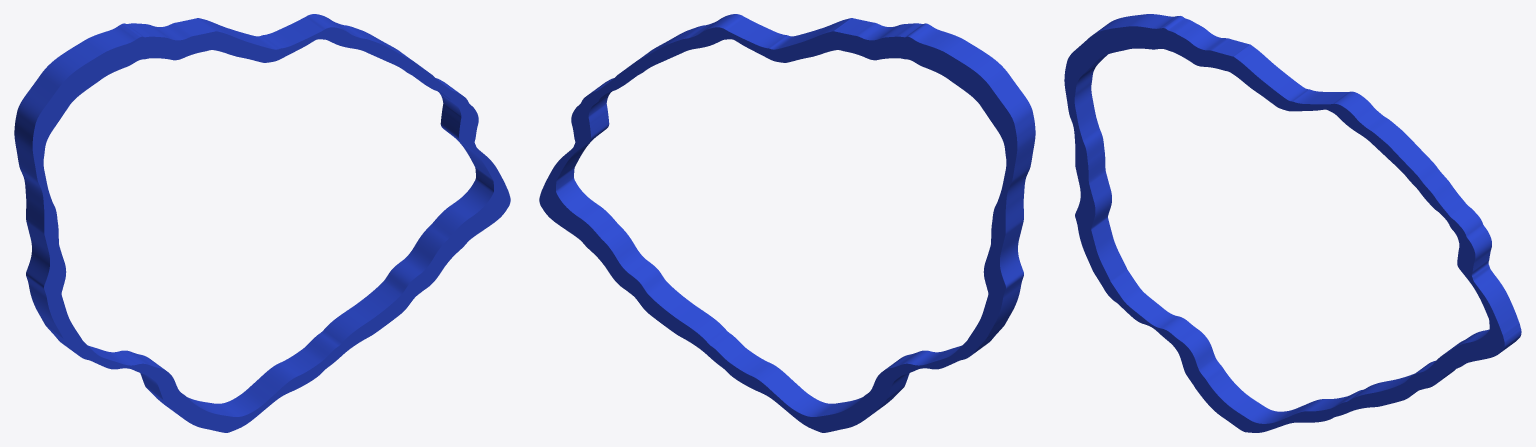
Rendered from granite.glb.
3 renders of one model, left to right at view 1: azimuth 30°, elevation 25°; view 2: azimuth 150°, elevation 25°; view 3: azimuth 330°, elevation 25°, orthographic. The views are drawn at different scales.
Visible parts, largest first — view 1: Curve; view 2: Curve; view 3: Curve.
Boxes of the visible parts, x1=… form: Curve: x1=14, y1=14, x2=510, y2=432; Curve: x1=539, y1=14, x2=1035, y2=432; Curve: x1=1064, y1=14, x2=1521, y2=432.
Bounding box in the file's own units: 0.3041 × 0.2537 × 0.02.
